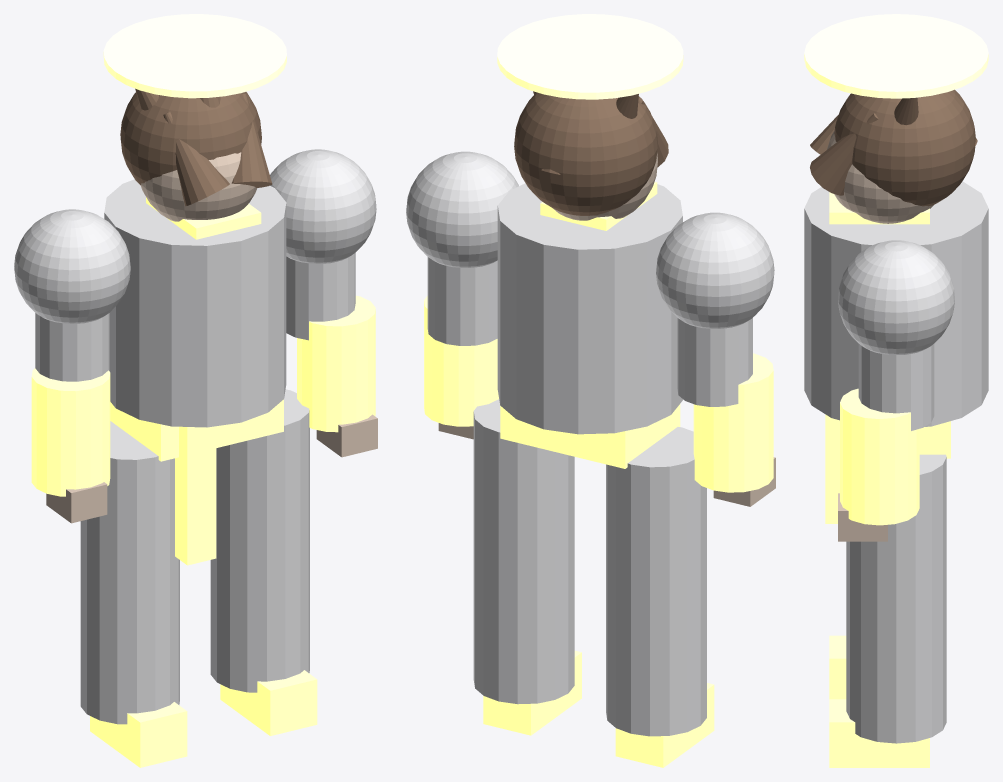
File: human_transcendent_full.glb
3 renders of one model, left to right at view 1: azimuth 30°, elevation 25°; view 2: azimuth 150°, elevation 25°; view 3: azimuth 270°, elevation 25°, orthographic.
Parts seen in each view (by area): view 1: HumanTranscendentFull; view 2: HumanTranscendentFull; view 3: HumanTranscendentFull.
Boxes of the visible parts, x1,y1,x2,y2 form: HumanTranscendentFull: (14,14,377,767); HumanTranscendentFull: (406,14,775,767); HumanTranscendentFull: (804,14,988,767).
Bounding box in the file's own units: 0.96 × 1.77 × 0.44.
